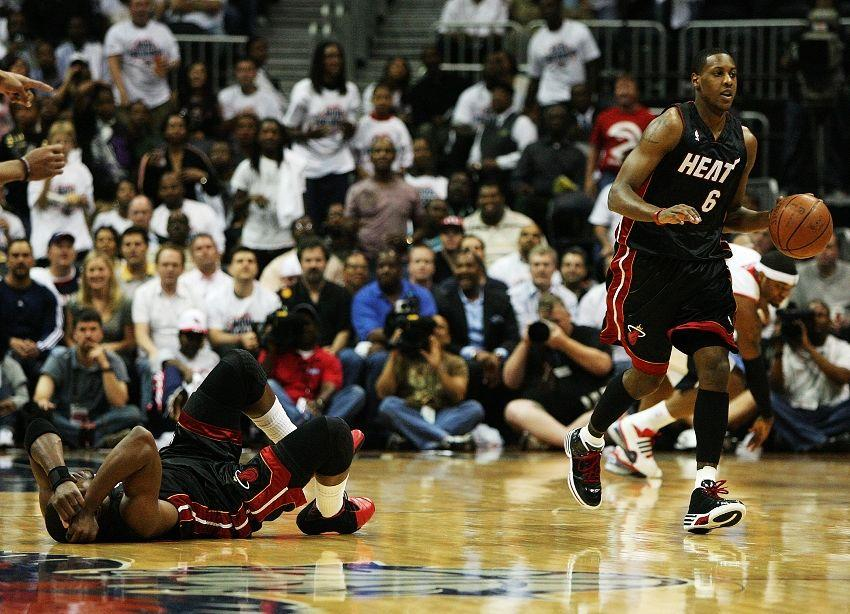down: (5, 356, 382, 547)
up: (560, 44, 828, 539)
